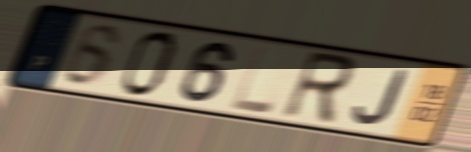0: (118, 29, 181, 99)
6: (60, 22, 126, 88), (177, 39, 237, 105)
J: (351, 67, 412, 128)
L: (228, 43, 278, 117)
R: (277, 48, 360, 128)
